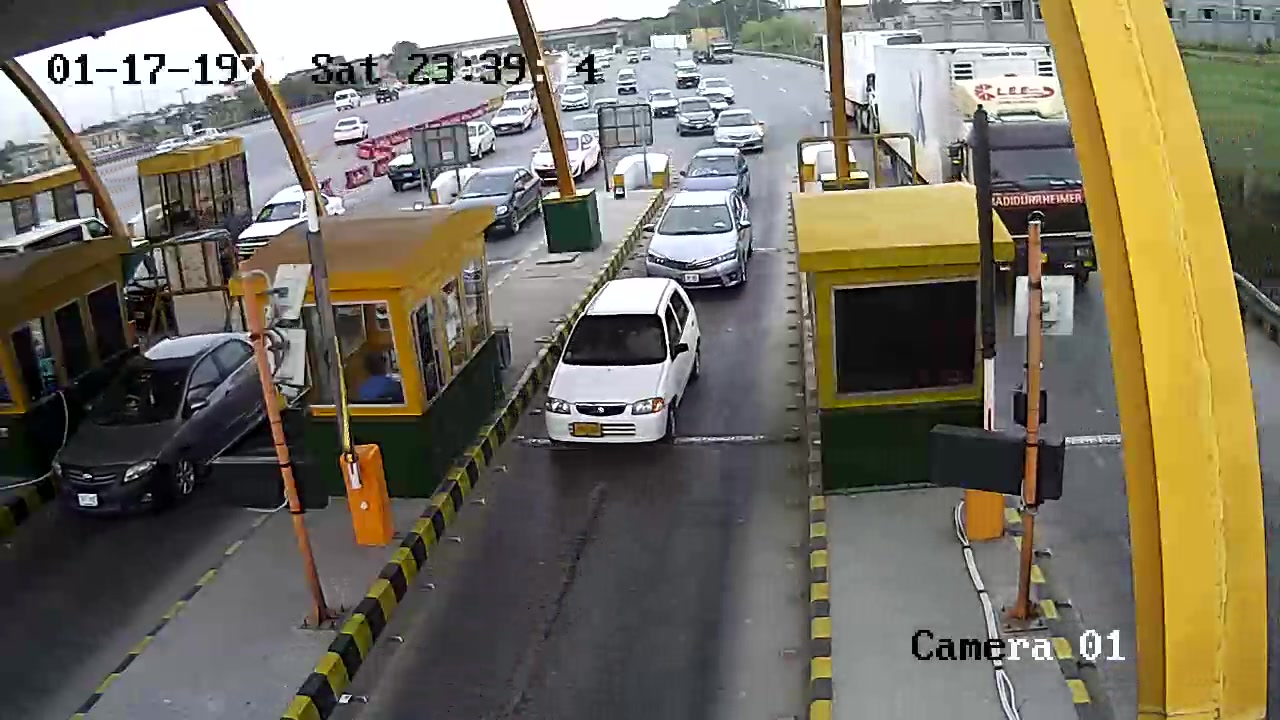F1: (535, 277, 710, 460), (649, 183, 763, 286)
